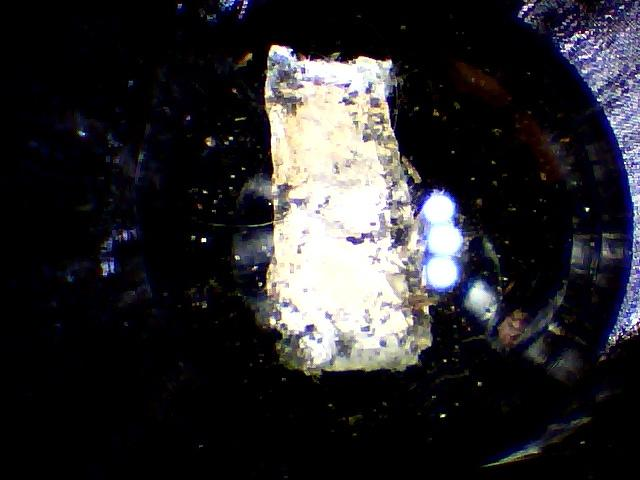megot: (235, 37, 458, 378)
